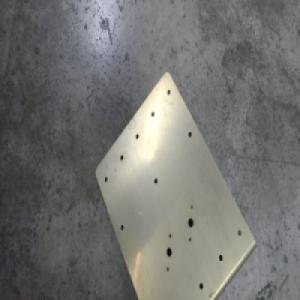MetalSheet: (93, 68, 258, 300)
